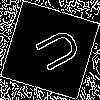U: (25, 25, 83, 79)
